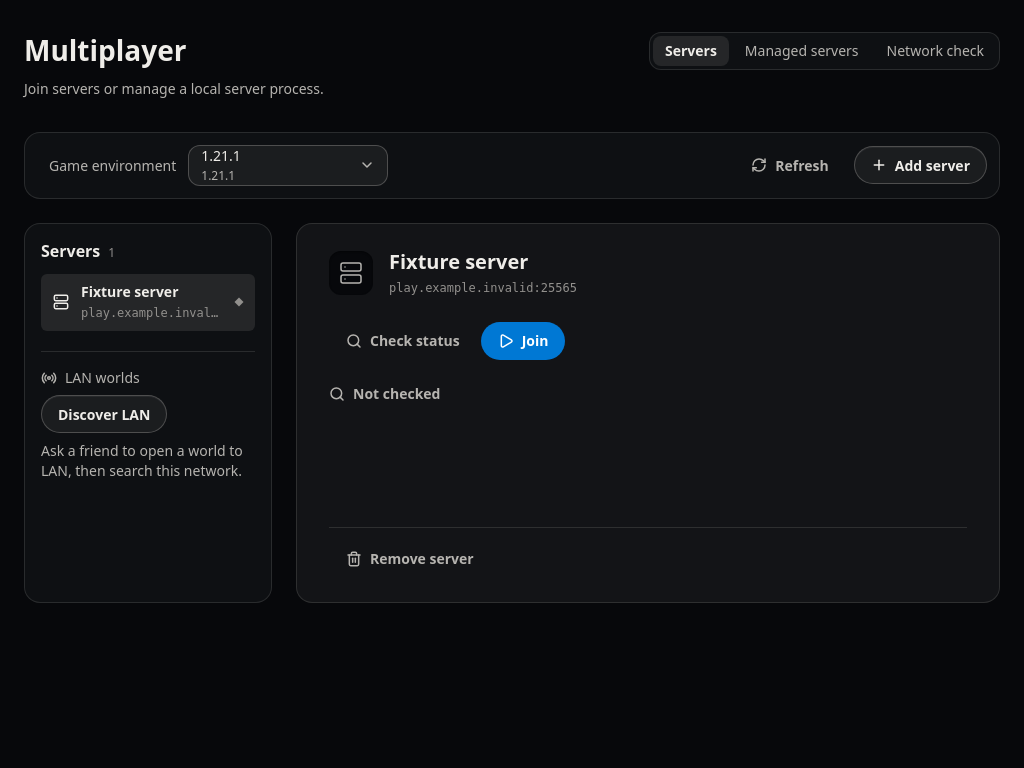
Test: multiplayer › shows an honest empty result after LAN discovery
Click the button "Discover LAN" at (104, 414), box [41,395,167,433]
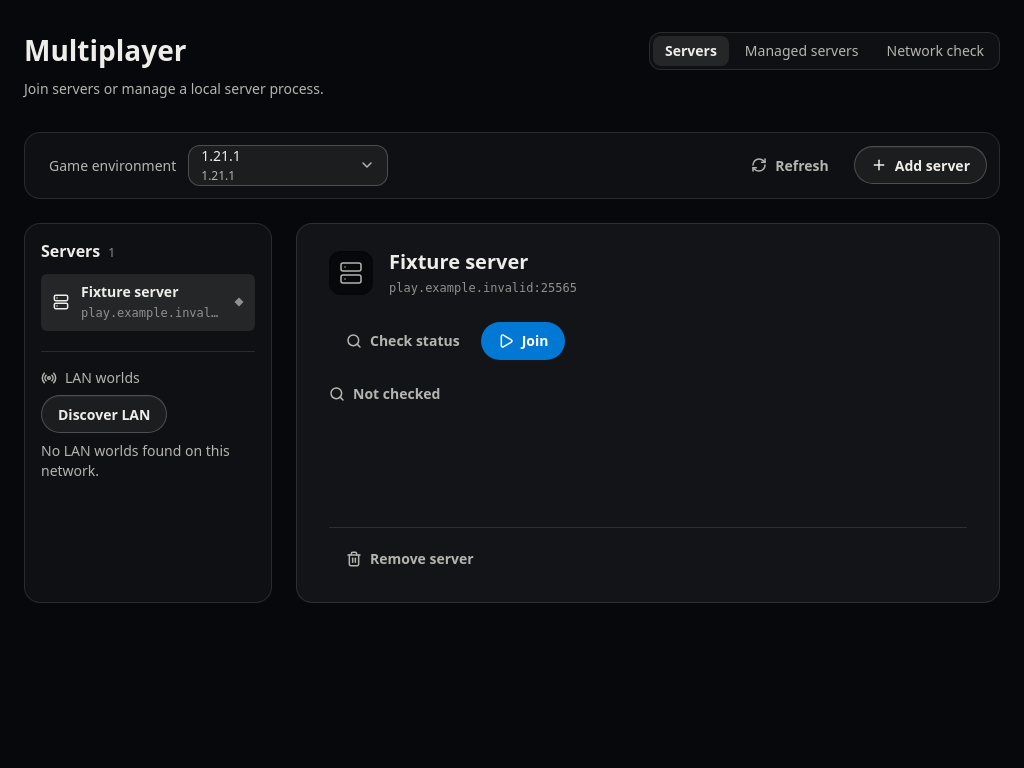
Now the text "No LAN worlds found" is shown, box [41,441,230,480]
